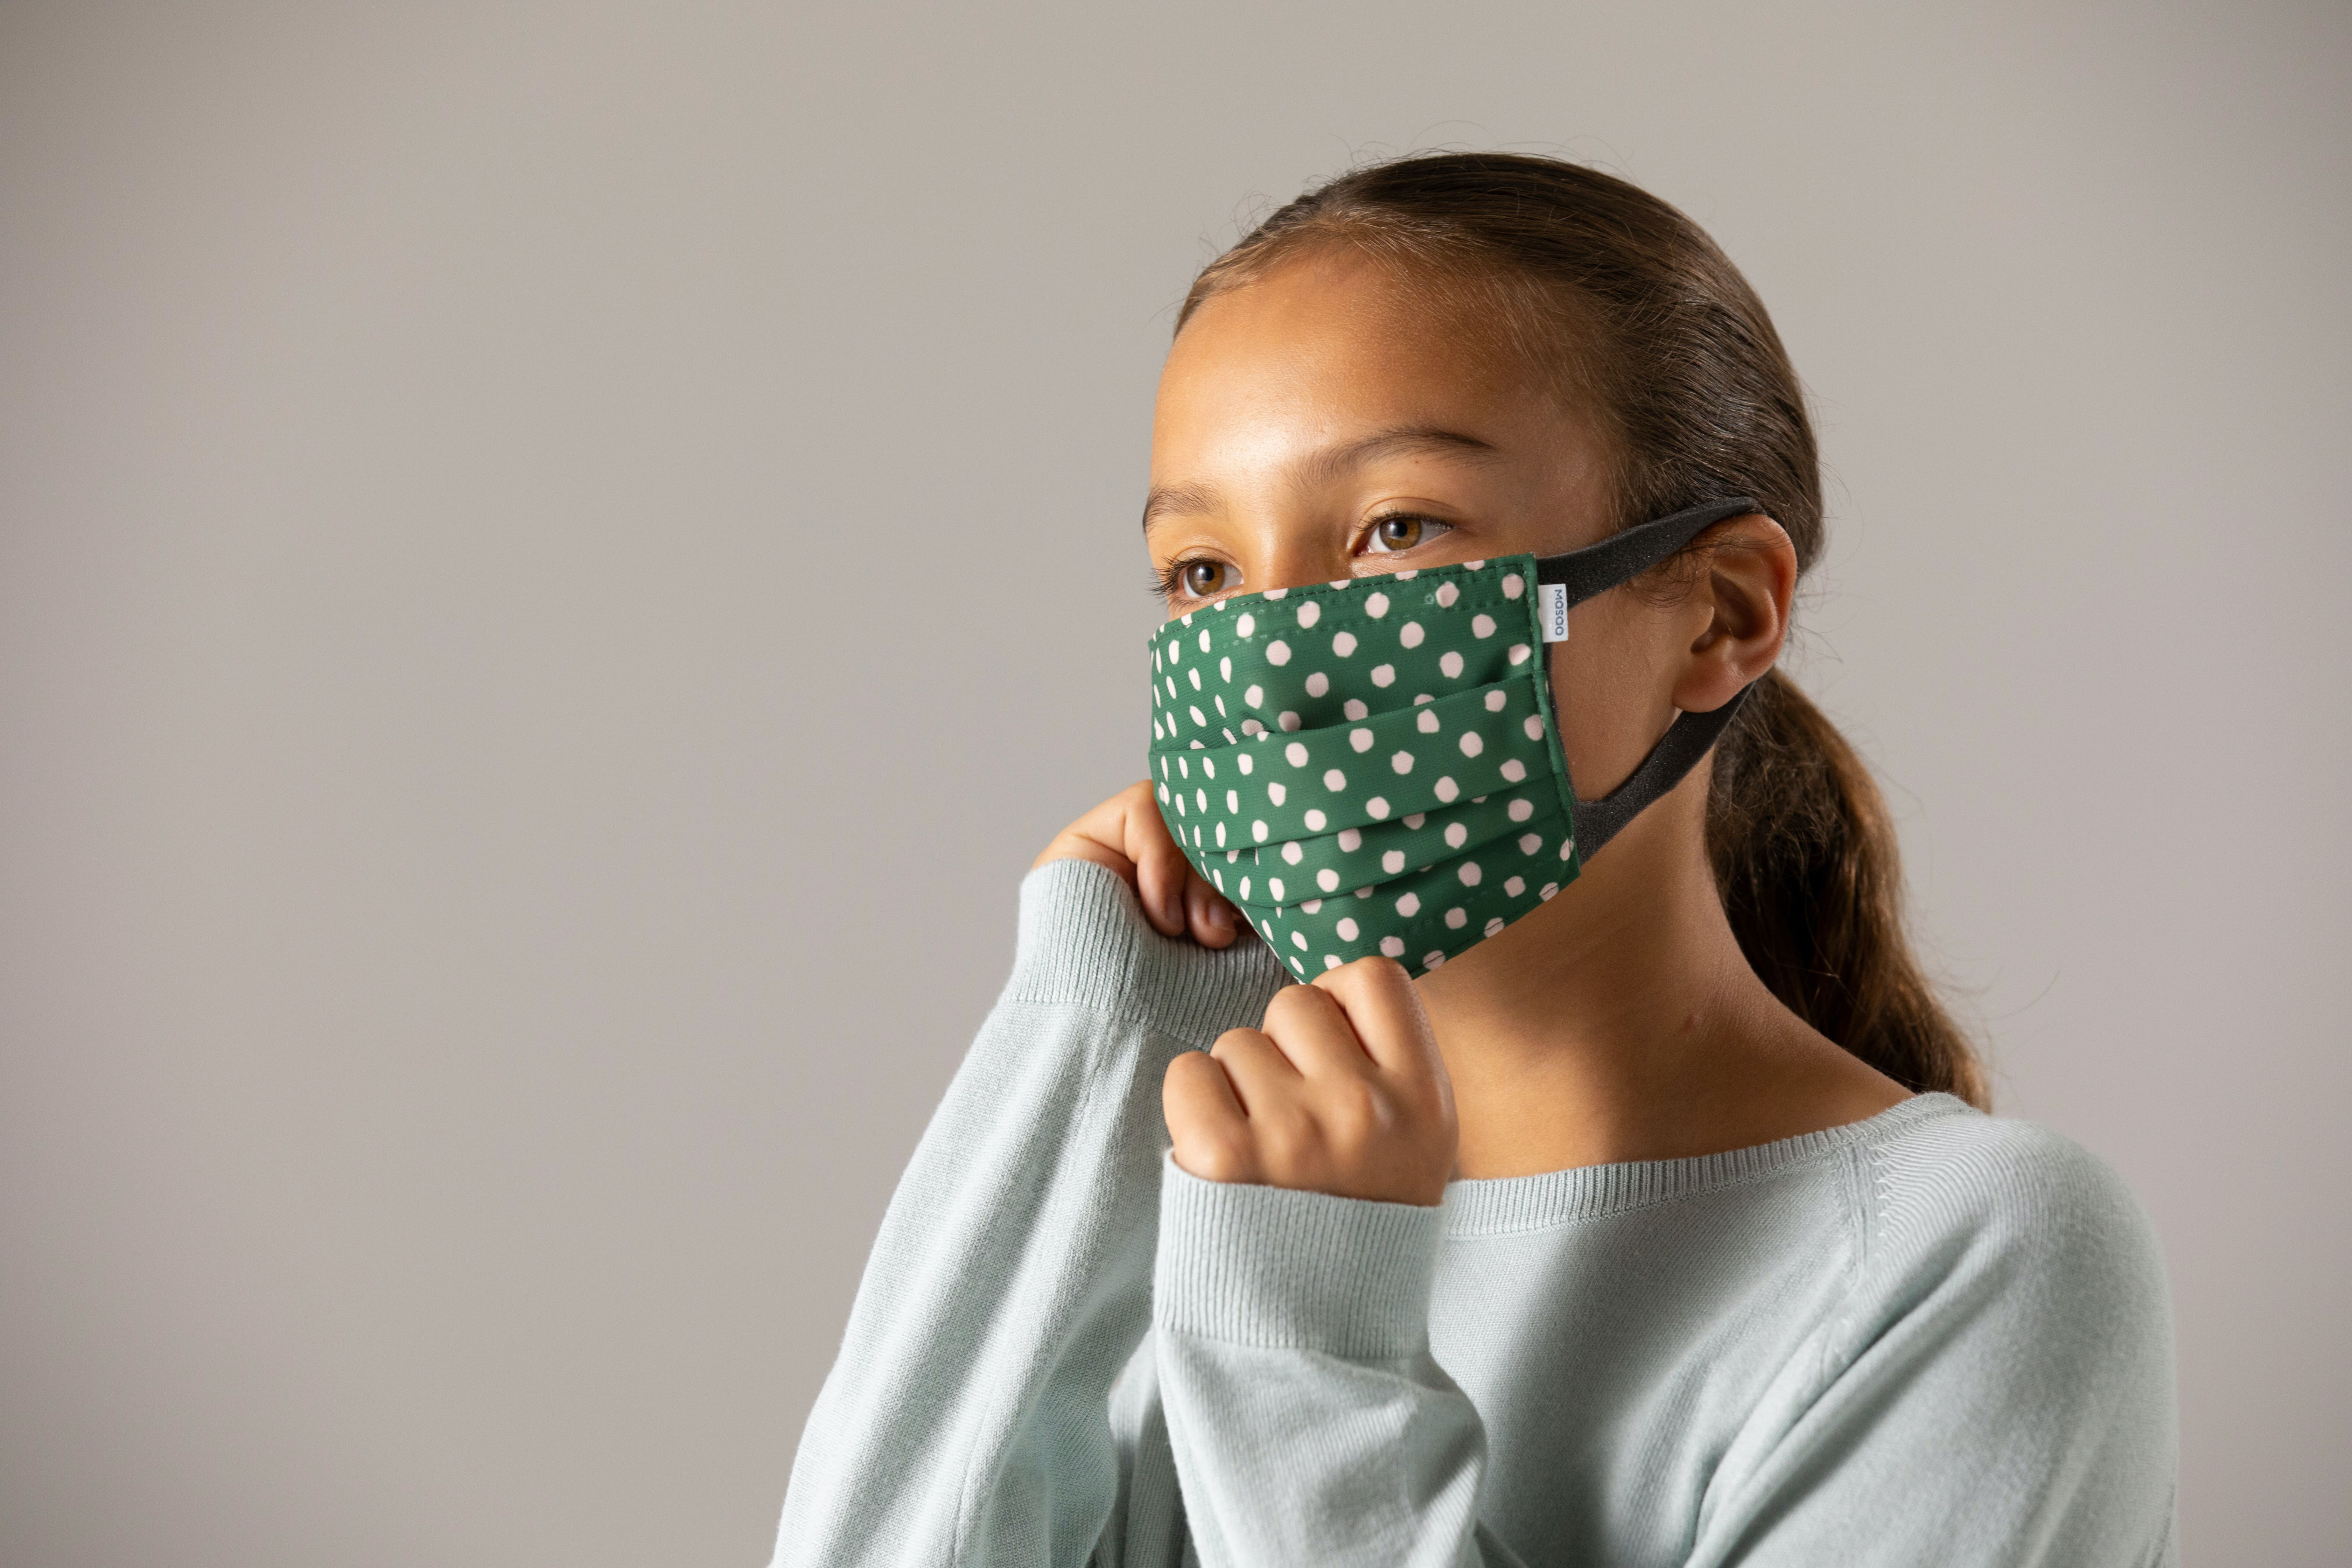mask: (1122, 569, 1613, 1005)
person: (731, 121, 2196, 1568)
